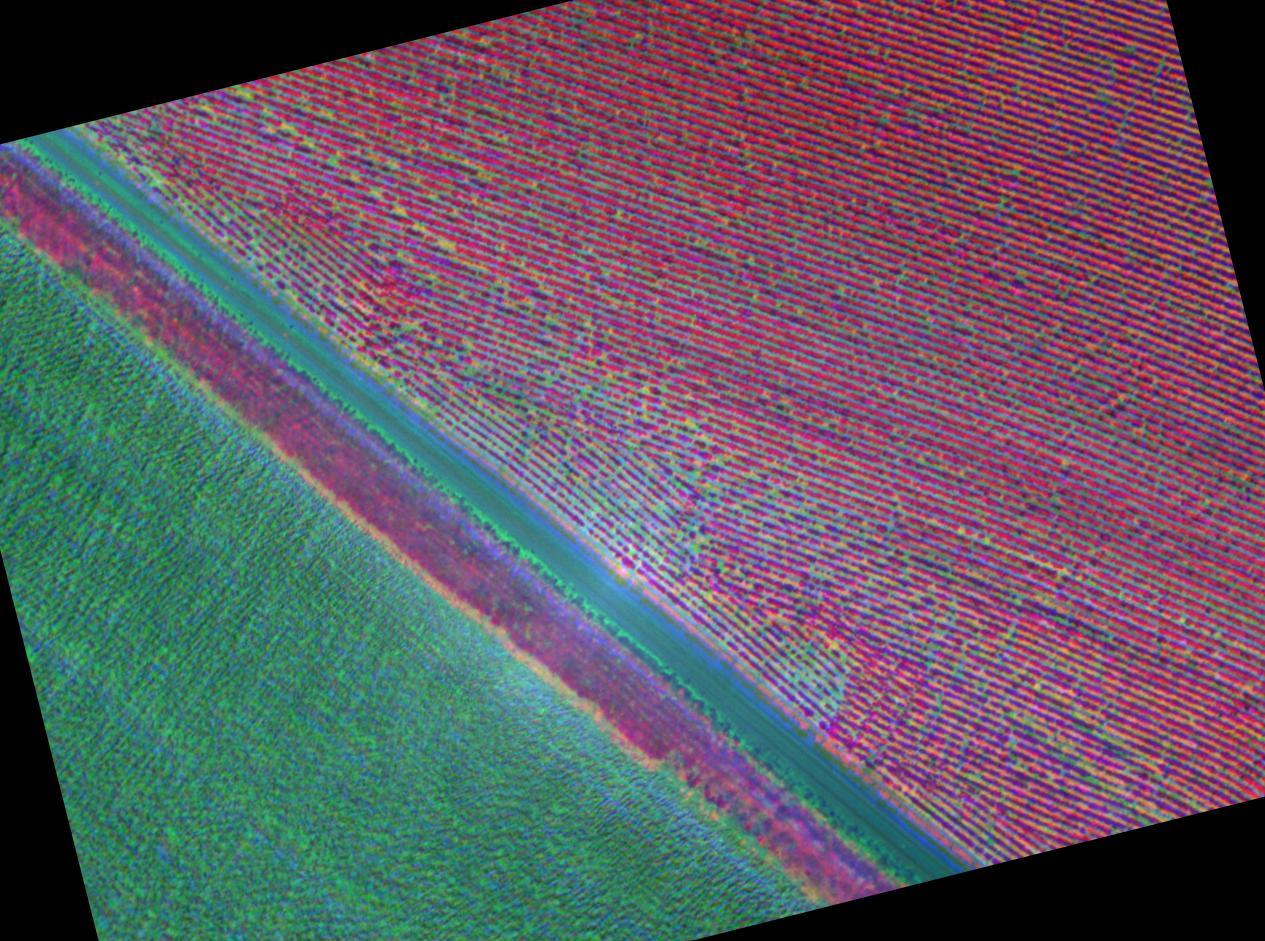dc: (405, 324, 411, 329), (655, 507, 659, 512), (691, 546, 696, 550), (331, 158, 335, 162), (904, 575, 908, 579), (838, 678, 842, 682), (826, 697, 830, 701), (330, 110, 333, 114), (799, 307, 802, 311), (547, 377, 551, 380), (287, 129, 290, 132), (399, 213, 402, 216)
